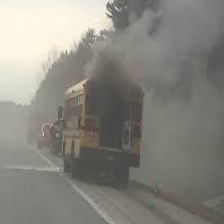smoke: (149, 22, 224, 206), (98, 48, 138, 110)
